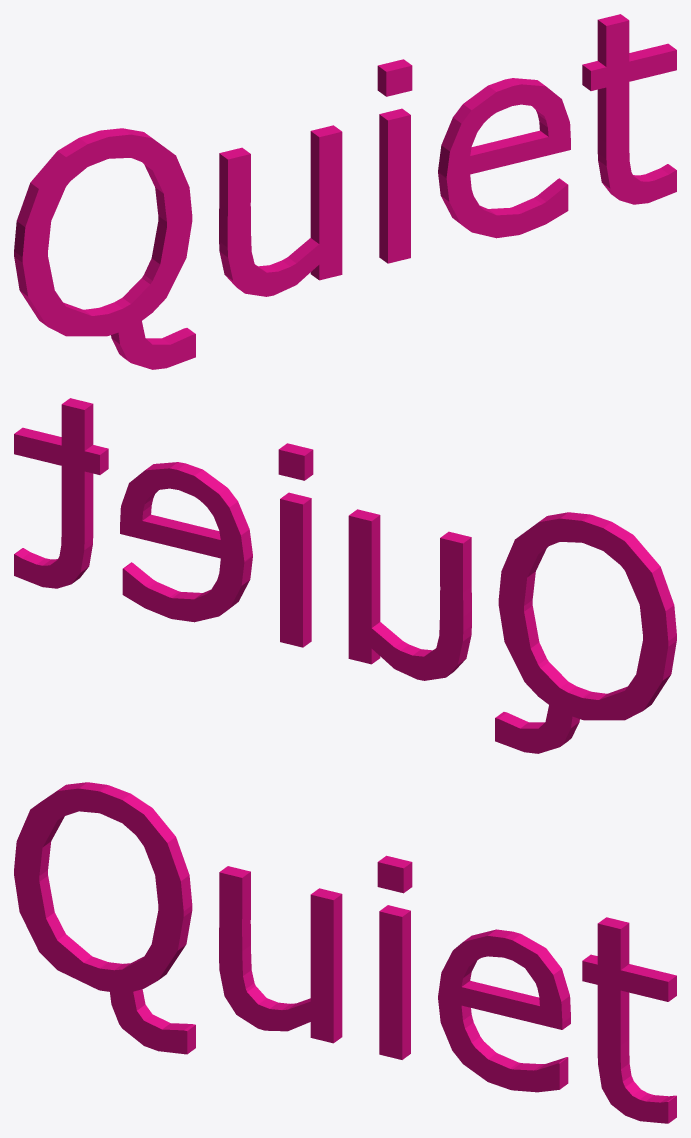
Rendered from quiet.fbx.
3 renders of one model, top to bottom at view 1: azimuth 30°, elevation 25°; view 2: azimuth 150°, elevation 25°; view 3: azimuth 330°, elevation 25°, orthographic.
Visible parts, largest first — view 1: Trim_Char_Q_1_1, Trim_Char_e_1_1, Trim_Char_u_1_1, Trim_Char_t_1_1, Trim_Char_i_1_1; view 2: Trim_Char_Q_1_1, Trim_Char_e_1_1, Trim_Char_u_1_1, Trim_Char_t_1_1, Trim_Char_i_1_1; view 3: Trim_Char_Q_1_1, Trim_Char_e_1_1, Trim_Char_u_1_1, Trim_Char_t_1_1, Trim_Char_i_1_1.
Part boxes in pixels (x1=…): Trim_Char_Q_1_1: x1=14, y1=128, x2=195, y2=369; Trim_Char_e_1_1: x1=438, y1=78, x2=570, y2=238; Trim_Char_u_1_1: x1=219, y1=125, x2=342, y2=296; Trim_Char_t_1_1: x1=582, y1=14, x2=676, y2=204; Trim_Char_i_1_1: x1=377, y1=59, x2=412, y2=263; Trim_Char_Q_1_1: x1=495, y1=512, x2=676, y2=753; Trim_Char_e_1_1: x1=120, y1=462, x2=252, y2=622; Trim_Char_u_1_1: x1=348, y1=509, x2=471, y2=680; Trim_Char_t_1_1: x1=14, y1=398, x2=108, y2=588; Trim_Char_i_1_1: x1=278, y1=443, x2=313, y2=647; Trim_Char_Q_1_1: x1=14, y1=782, x2=195, y2=1054; Trim_Char_e_1_1: x1=438, y1=929, x2=570, y2=1092; Trim_Char_u_1_1: x1=219, y1=866, x2=342, y2=1043; Trim_Char_t_1_1: x1=582, y1=917, x2=676, y2=1123; Trim_Char_i_1_1: x1=377, y1=855, x2=412, y2=1059.
Bounding box in the file's own units: 2.58 × 0.9233 × 0.0592.
